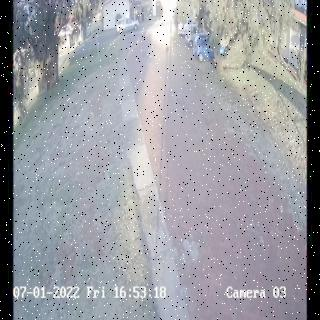car: (192, 33, 213, 63), (115, 16, 139, 33), (184, 25, 198, 48)
